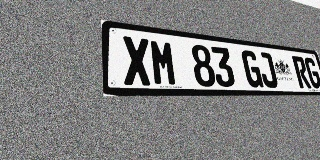3: (211, 46, 236, 87)
8: (190, 44, 217, 87)
G: (241, 50, 264, 87), (303, 57, 320, 88)
J: (256, 52, 279, 88)
M: (149, 39, 178, 86)
R: (292, 56, 312, 88)
X: (122, 36, 152, 86)
